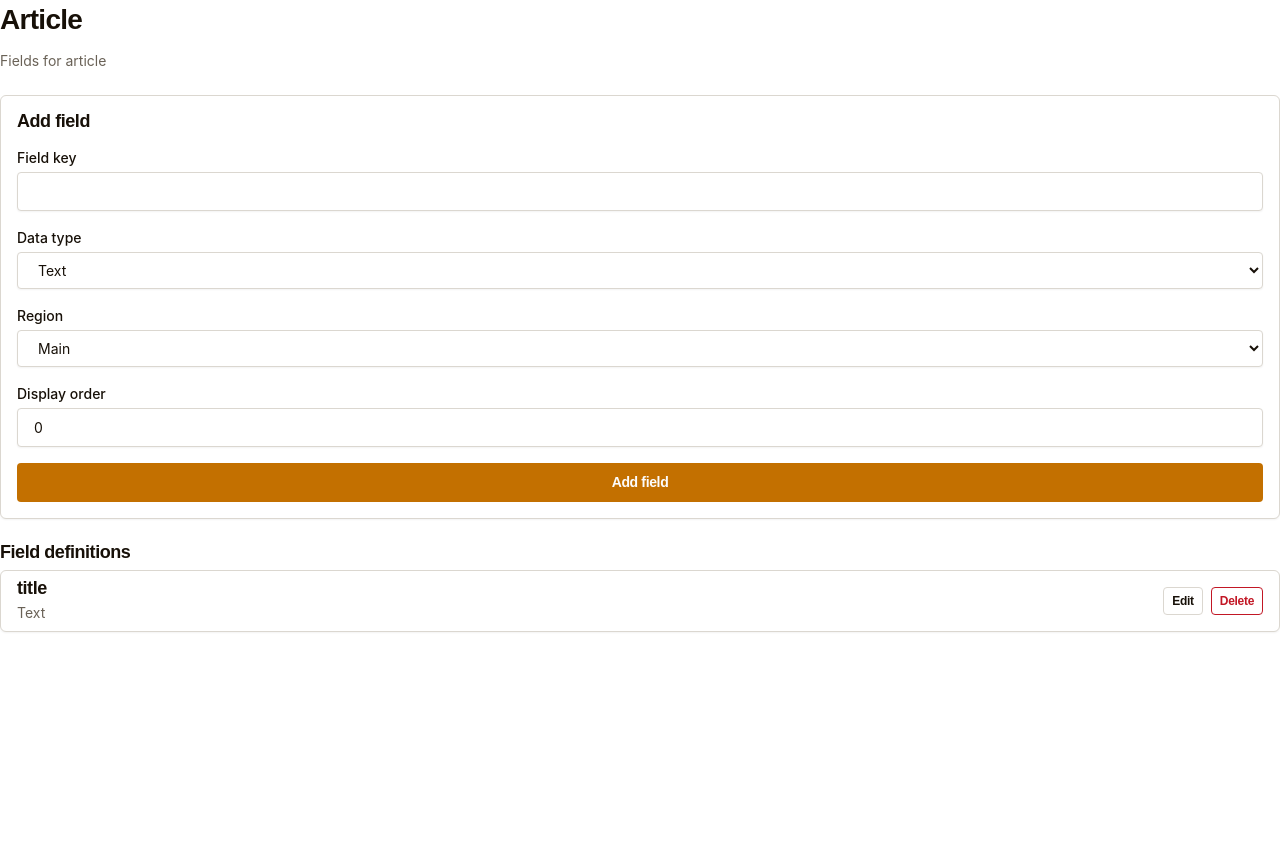
it: FieldDefsPage › edits a field definition
expect the text "title" is shown: met, box [17, 579, 47, 598]
Click the button "Edit": [1183, 601] box [1163, 587, 1203, 615]
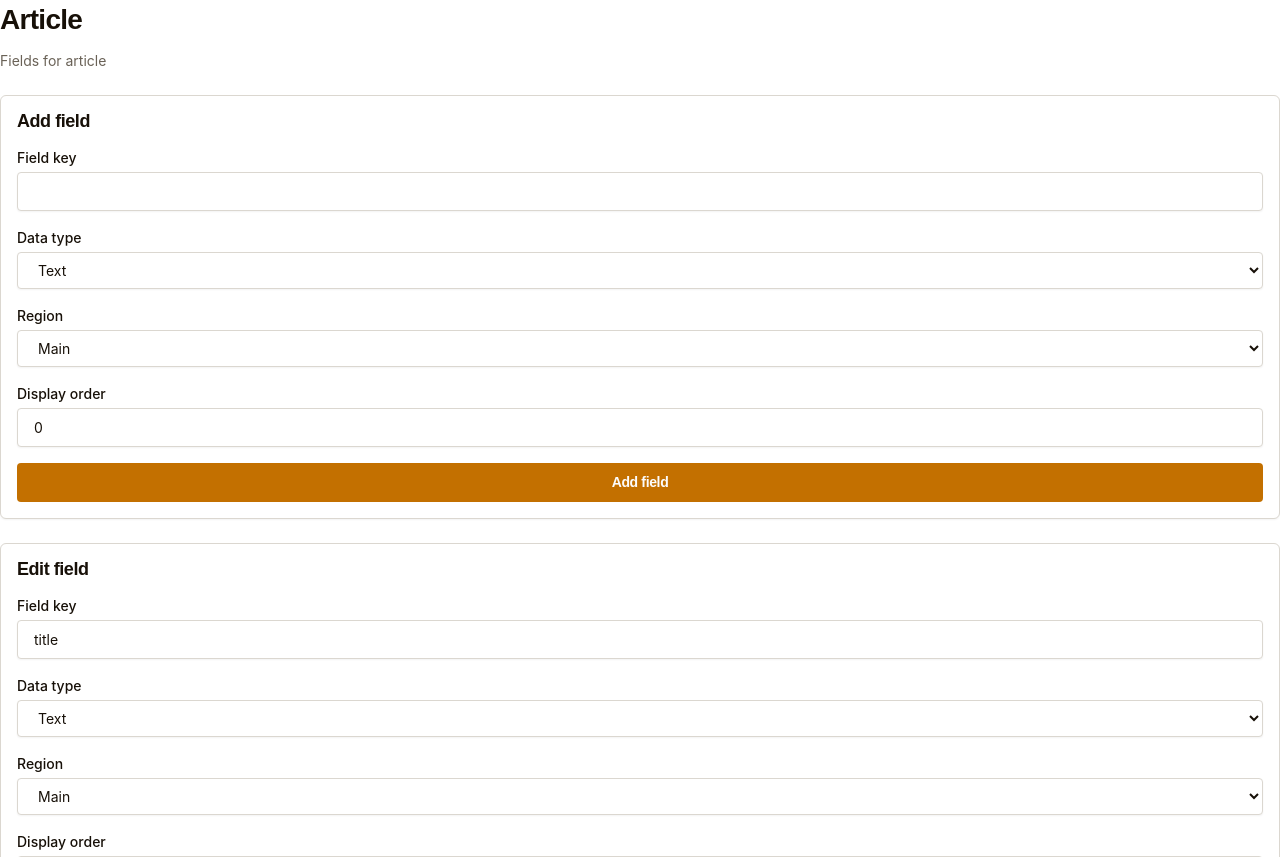
Replace the text in the field labelled "Field key" below "Edit field" with "headline": [640, 640] box [17, 620, 1263, 659]
(page scrolled)
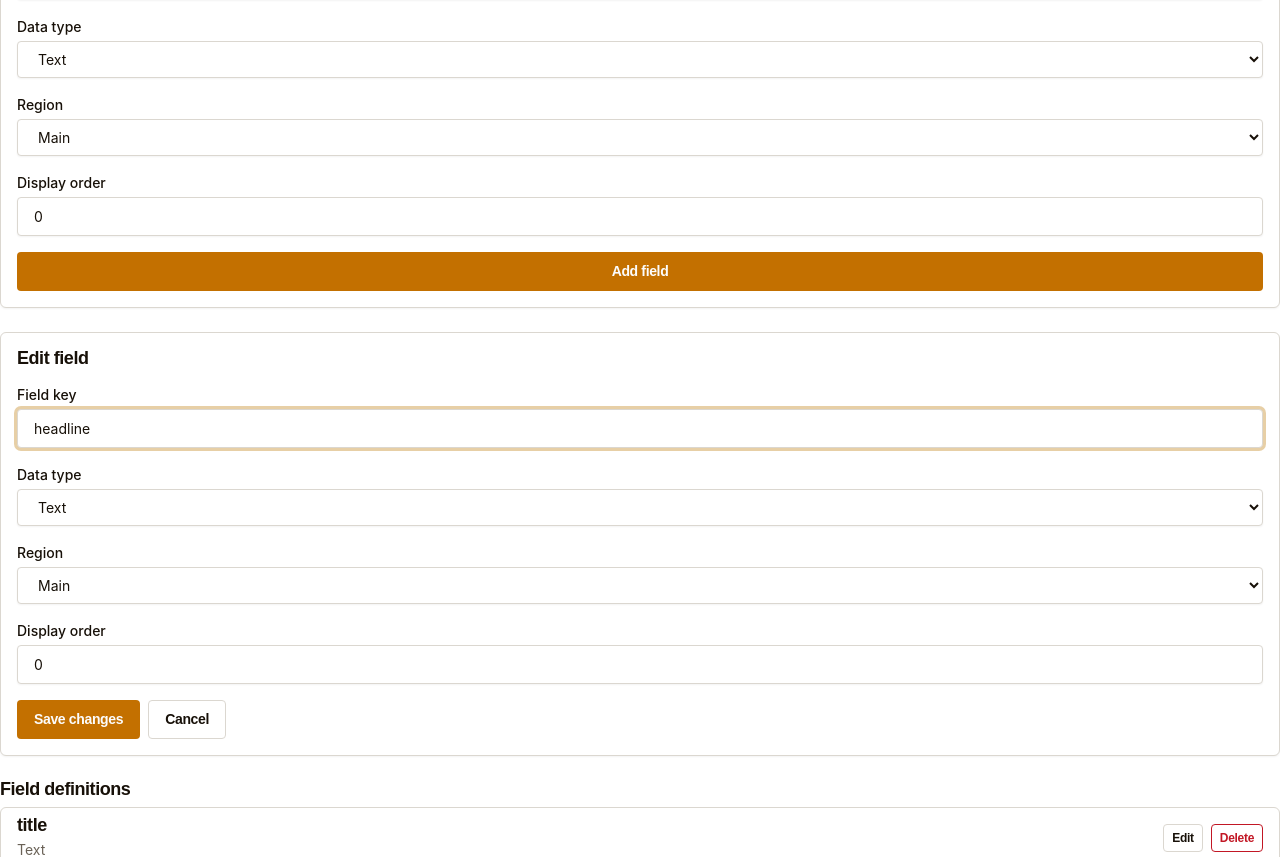
Click the button "Save changes": [79, 720] box [17, 700, 140, 739]
(page scrolled)
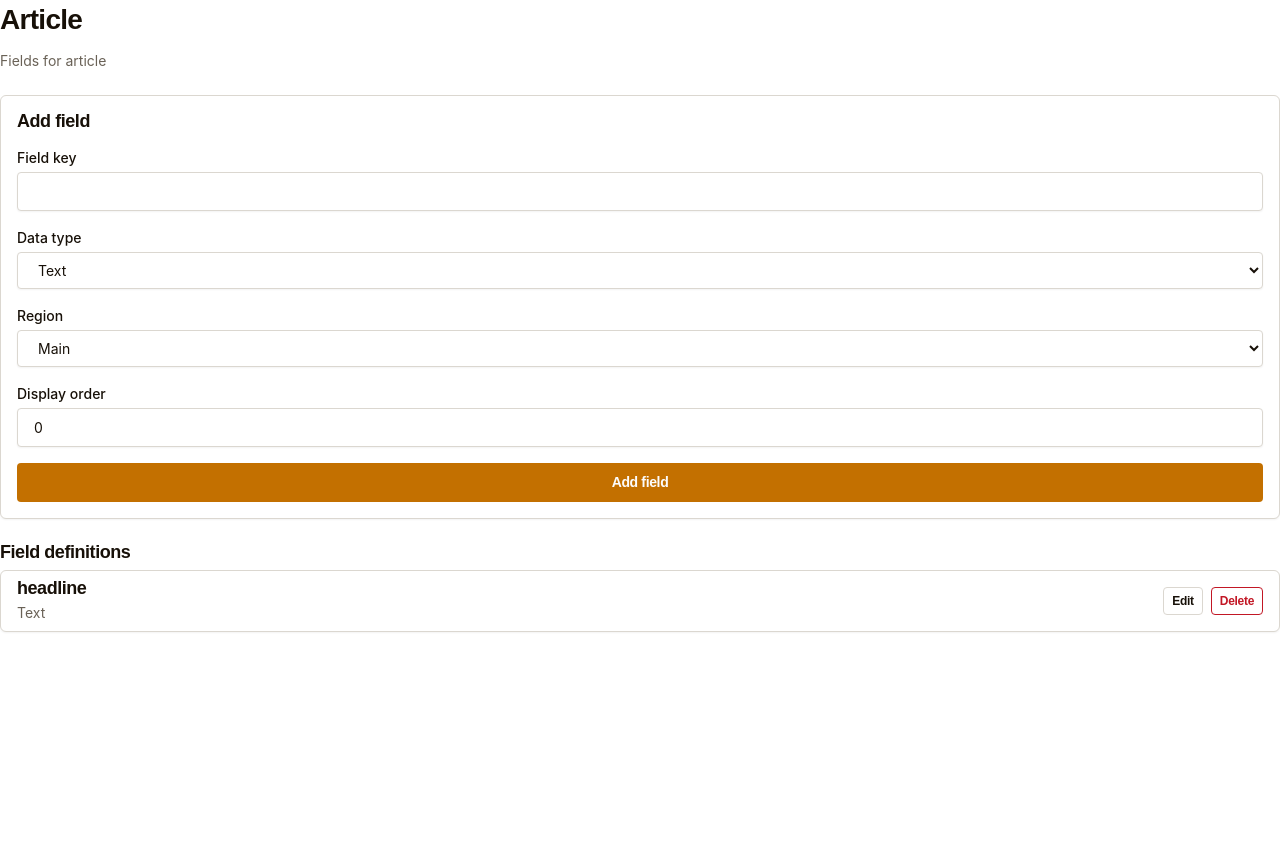
expect the text "headline" is shown: met, box [17, 579, 86, 598]
expect the text "title" is gone: met
